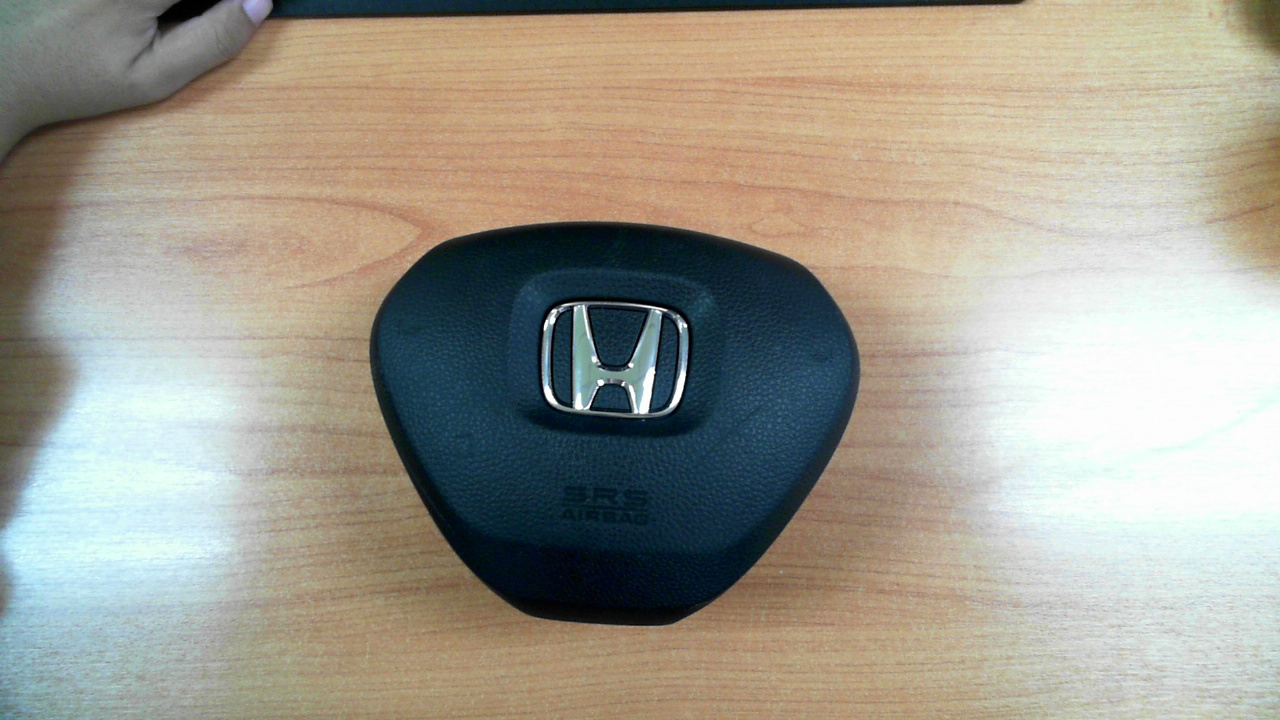Airbag: (368, 220, 861, 628)
Honda: (540, 300, 690, 419)
